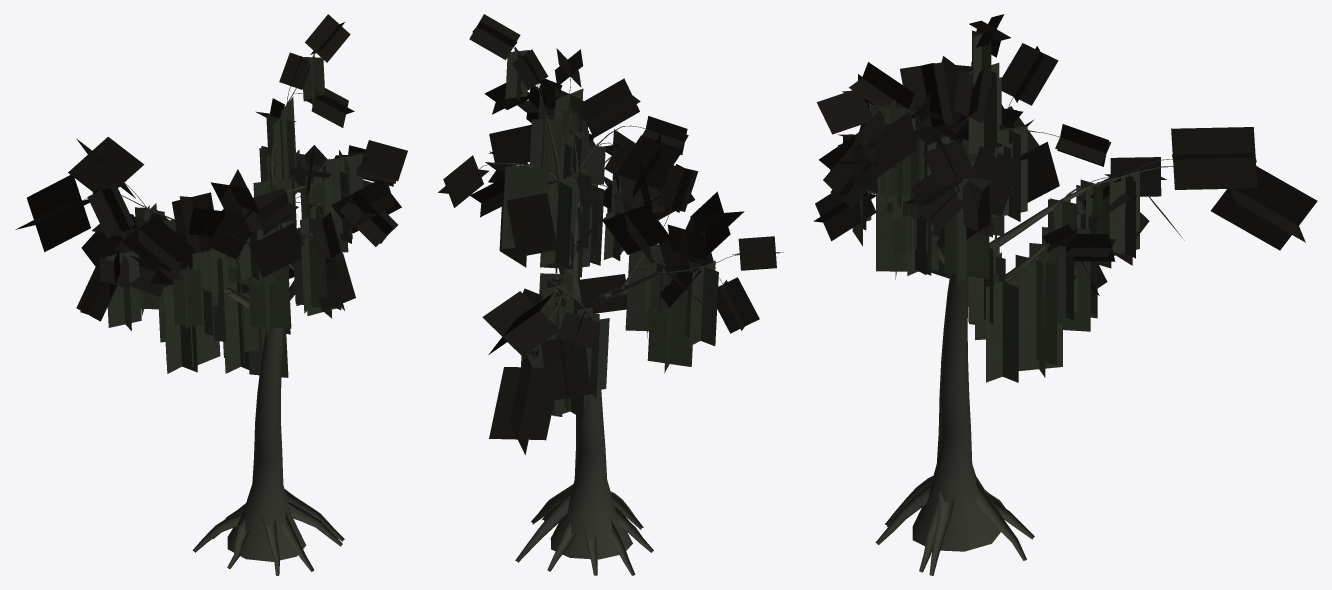
The model's file is Arbol_Pantano_Musgo.glb.
The picture shows the model from 3 angles, left to right: view 1: azimuth 30°, elevation 25°; view 2: azimuth 150°, elevation 25°; view 3: azimuth 270°, elevation 25°; orthographic projection. The views are drawn at different scales.
Parts seen in each view (by area): view 1: Arbol_Pantano_Musgo; view 2: Arbol_Pantano_Musgo; view 3: Arbol_Pantano_Musgo.
Boxes of the visible parts, x1,y1,x2,y2 form: Arbol_Pantano_Musgo: [15, 14, 407, 575]; Arbol_Pantano_Musgo: [438, 14, 783, 575]; Arbol_Pantano_Musgo: [813, 14, 1317, 575].
Size of the model in its own units: 9.85 by 16.47 by 13.18.
3 materials, 2 textured.
